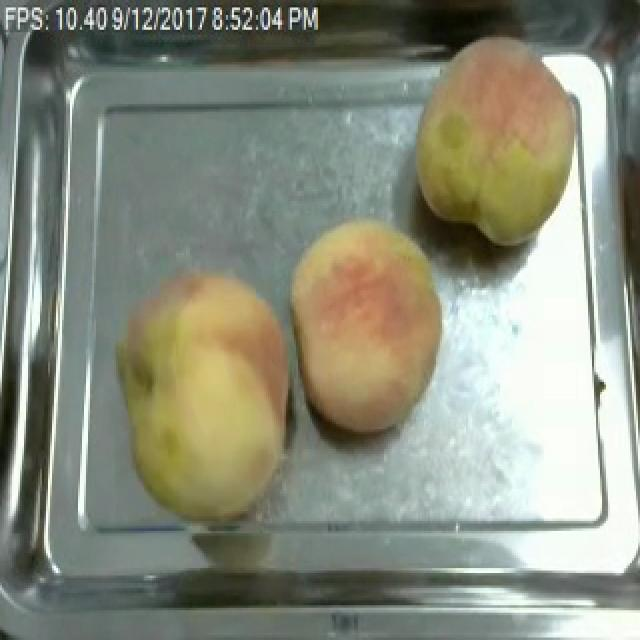Fruit: (108, 261, 302, 528), (406, 27, 594, 253), (280, 206, 454, 439)
